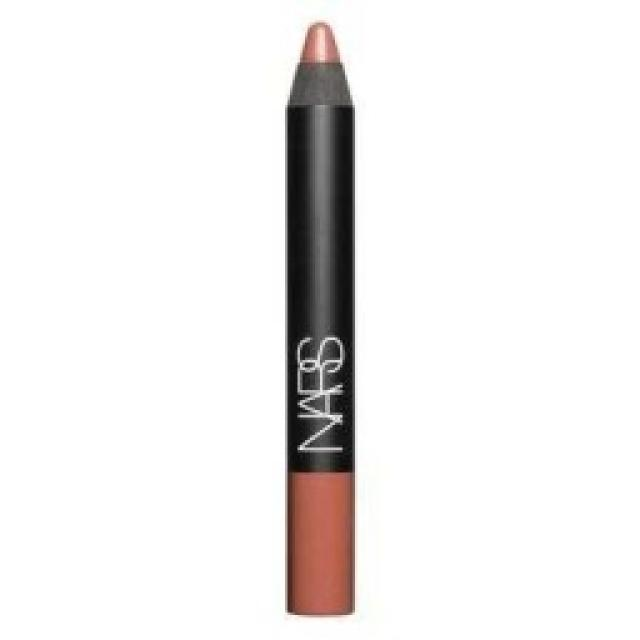pencil: (280, 18, 360, 618)
